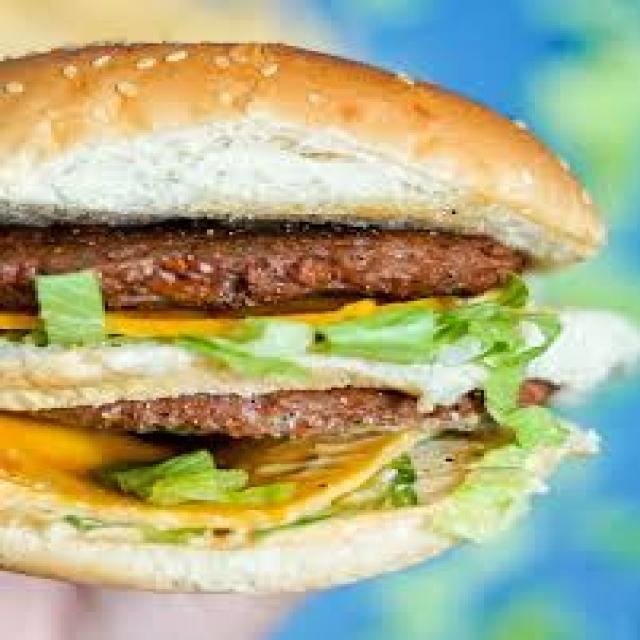햄버거: (0, 43, 589, 589)
